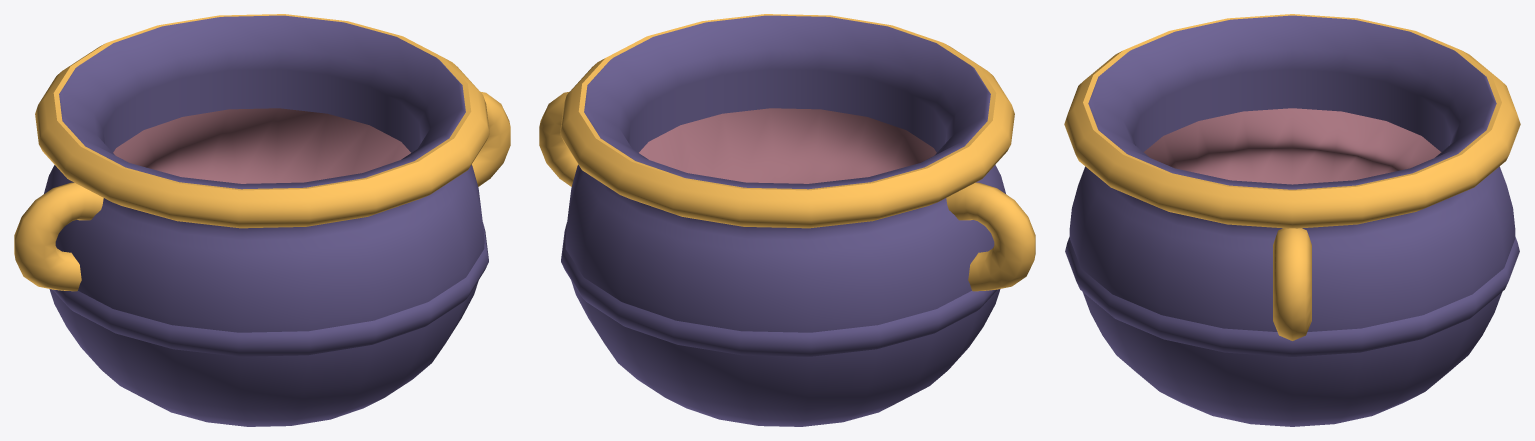
The model's file is Pot.fbx.
The picture shows the model from 3 angles, left to right: view 1: azimuth 30°, elevation 25°; view 2: azimuth 150°, elevation 25°; view 3: azimuth 270°, elevation 25°; orthographic projection.
Parts seen in each view (by area): view 1: Pot; view 2: Pot; view 3: Pot.
Boxes of the visible parts, box(x1,y1,x2,y2) form: Pot: box(14, 14, 510, 426); Pot: box(539, 14, 1035, 426); Pot: box(1064, 14, 1520, 426).
Size of the model in its own units: 61.16 by 31.94 by 49.06.
